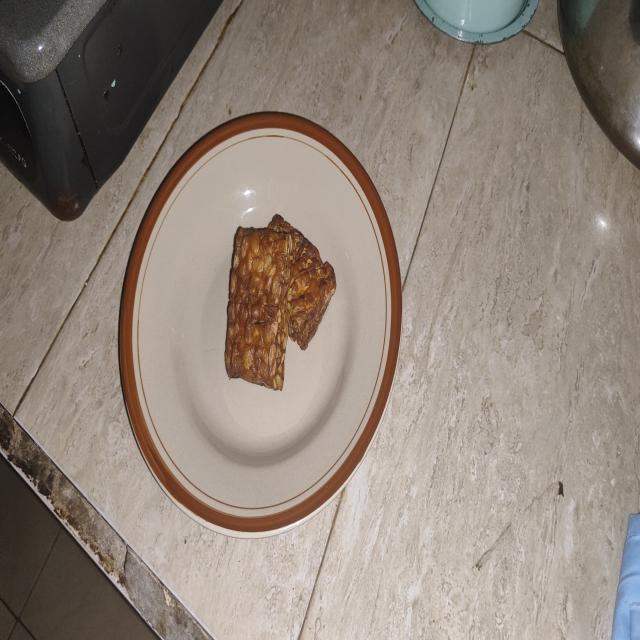tempe_goreng: (225, 228, 296, 390), (268, 214, 336, 350)
